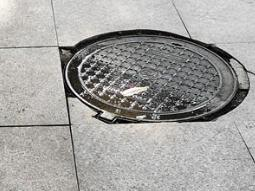wellcover: (67, 33, 246, 129)
